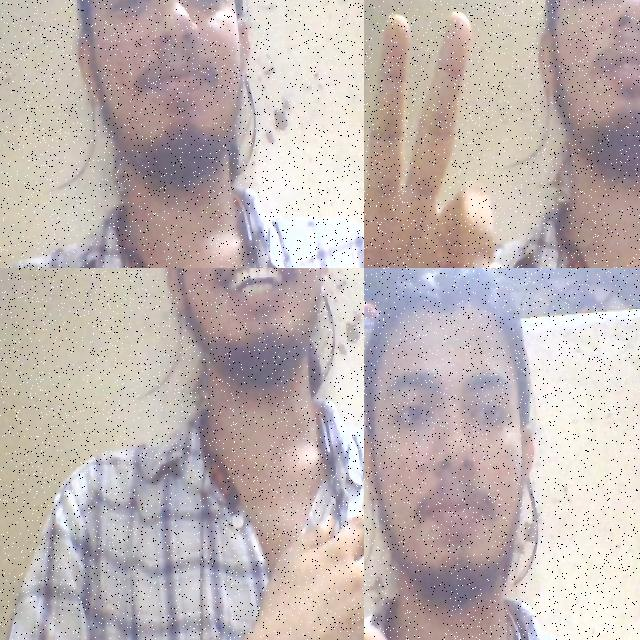I love u: (192, 505, 364, 640)
Please: (364, 0, 522, 268)
